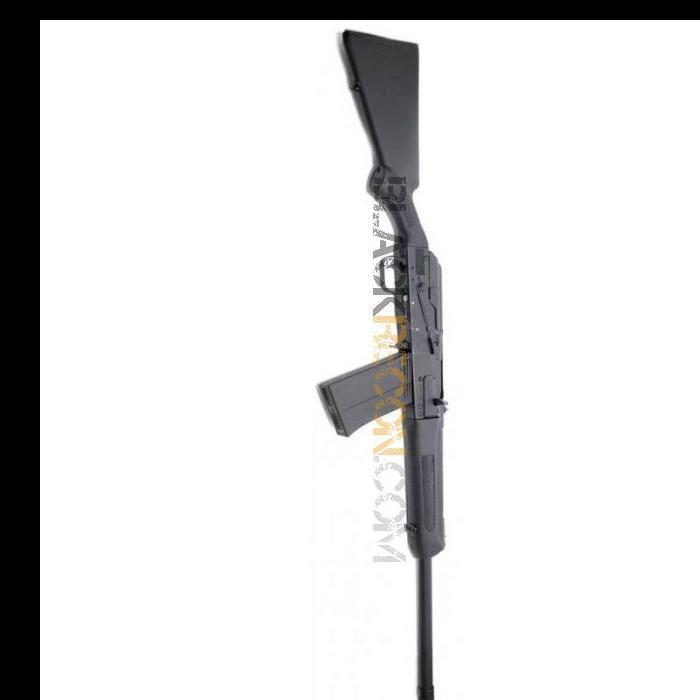larga: (313, 29, 449, 700)
